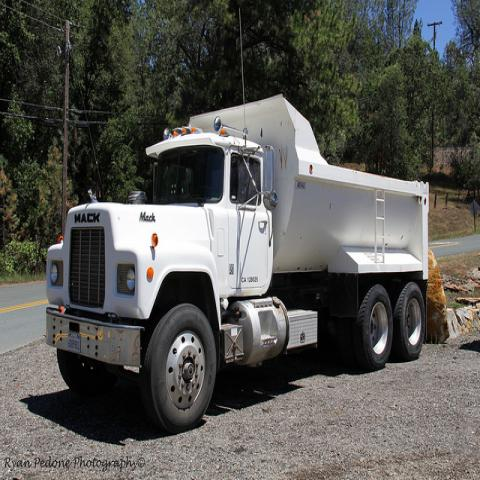truck: (45, 94, 431, 437)
